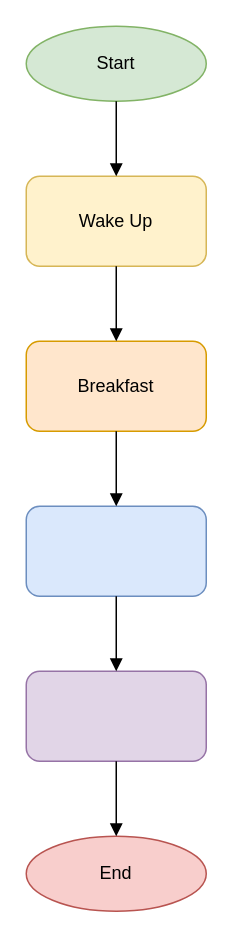
Some shapes in this 233 by 938 pixel diagram are drawn without their labels. Each missing label, with the centre of its shape:
Come Home: the point at 115,715
Go to School: the point at 115,550
